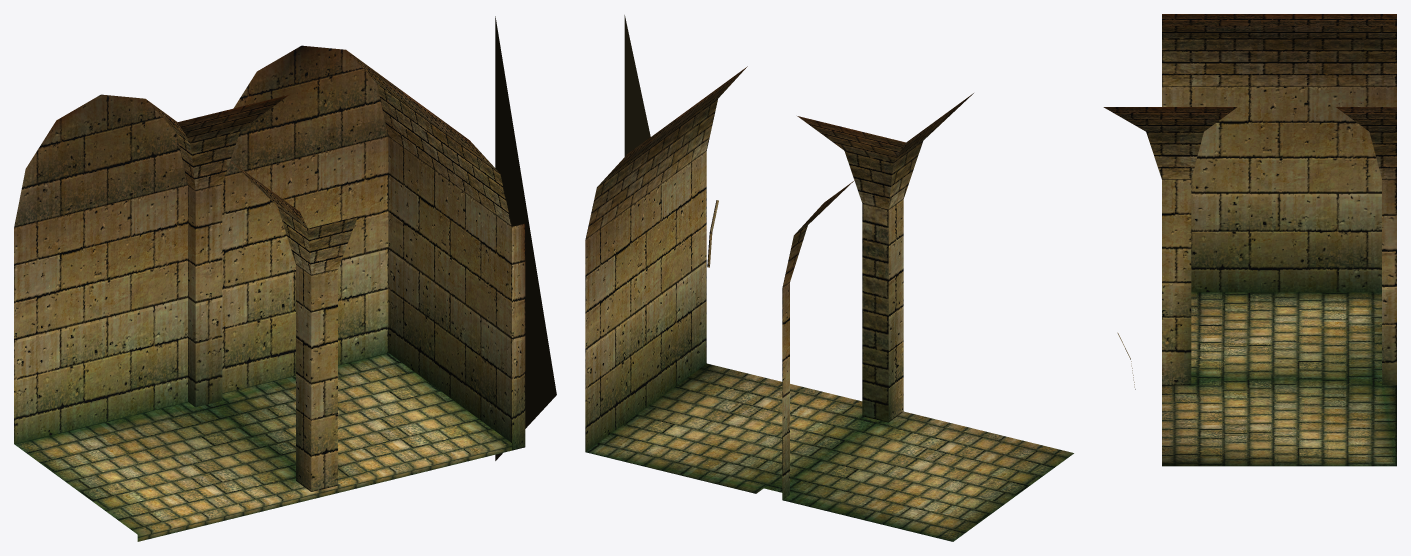
Rendered from Mission12_Sewer02PT3.glb.
3 views of the same model, side by side, from view 1: azimuth 30°, elevation 25°; view 2: azimuth 150°, elevation 25°; view 3: azimuth 270°, elevation 25° (orthographic). The views are drawn at different scales.
Visible parts, largest first — view 1: MISSION12_SEWER02PT3; view 2: MISSION12_SEWER02PT3; view 3: MISSION12_SEWER02PT3.
Boxes of the visible parts, x1,y1,x2,y2 form: MISSION12_SEWER02PT3: (14,16,556,541); MISSION12_SEWER02PT3: (585,15,1073,541); MISSION12_SEWER02PT3: (1103,14,1396,466).
Bounding box in the file's own units: 7.62 × 8 × 5.
Materials: 3 (3 with a texture image).
